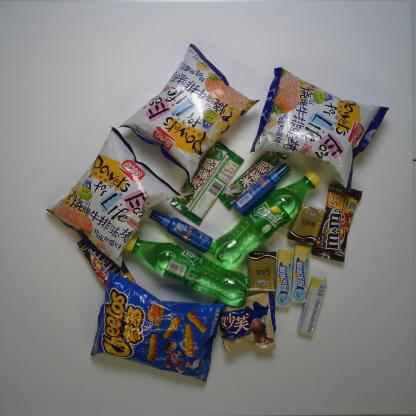Candy: (298, 278, 328, 337), (291, 245, 313, 304), (274, 249, 294, 308)
Chocolate: (184, 150, 246, 226), (172, 138, 230, 215), (218, 150, 289, 212), (311, 184, 363, 262), (77, 236, 137, 290)
Dessert: (217, 290, 278, 355)
Drink: (209, 170, 320, 271), (124, 232, 249, 307)
Personal Hygiene: (234, 163, 291, 215), (148, 209, 213, 254)
Puffed Food: (45, 126, 187, 271), (119, 43, 260, 180), (250, 66, 392, 192), (89, 270, 227, 382)
Tissue: (288, 204, 326, 248), (247, 250, 278, 292)
